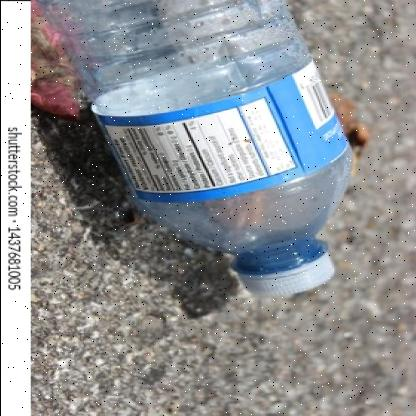Plastic Bottle: (45, 0, 351, 295)
